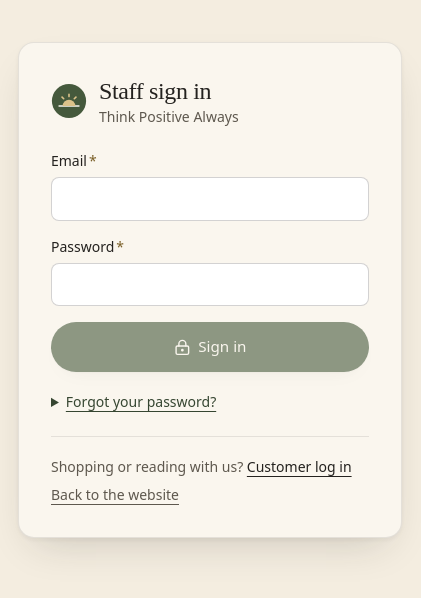
Test: admin authentication › shows a generic error for invalid credentials
The width and height of the screenshot is (421, 598).
In the field labelled "Email*": (210, 199) [51, 177, 369, 221], type "editor@example.org"
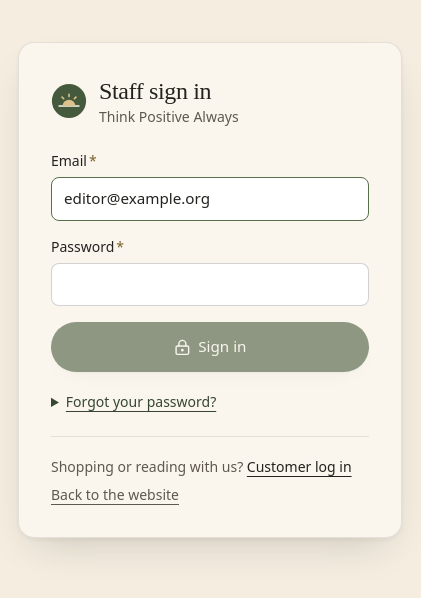
In the password field labelled "Password*": (210, 284) [51, 263, 369, 306], type "wrong-password"
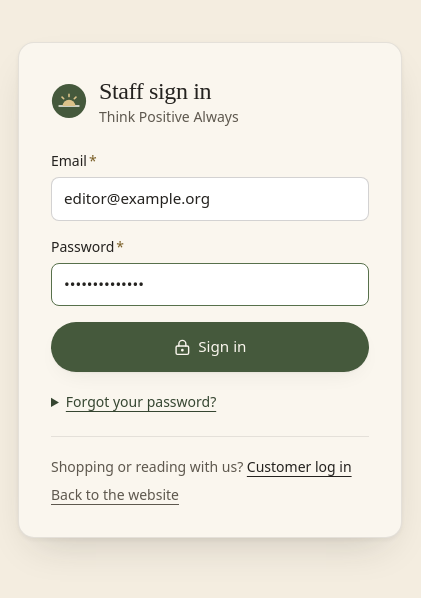
Click the button "Sign in": (210, 347) [51, 322, 369, 372]
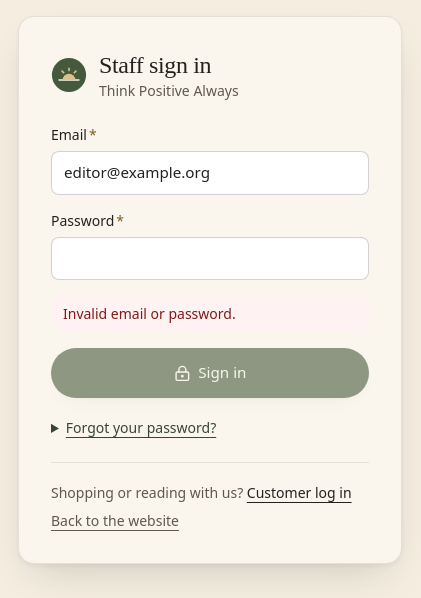
expect the message reads "Invalid email or password.": met, box [63, 304, 236, 323]
expect the password field labelled "Password*" is empty: met, box [51, 237, 369, 280]
